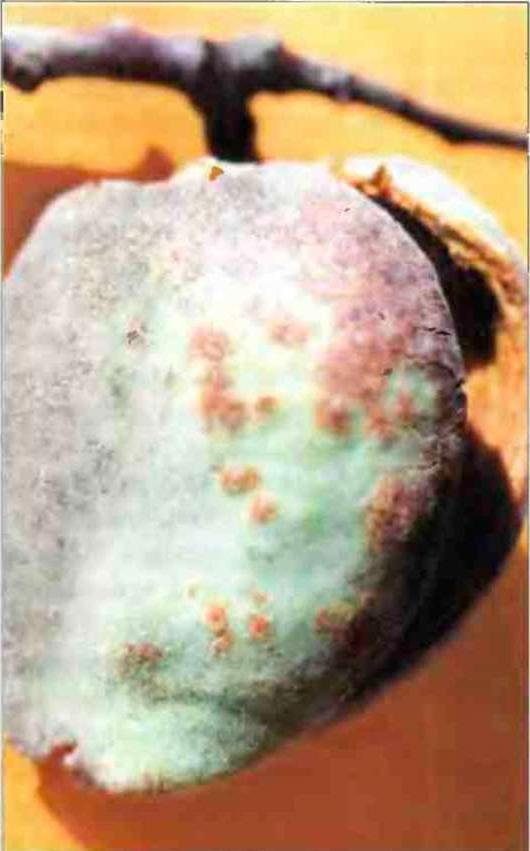mummified_fruits: (4, 160, 470, 792)
